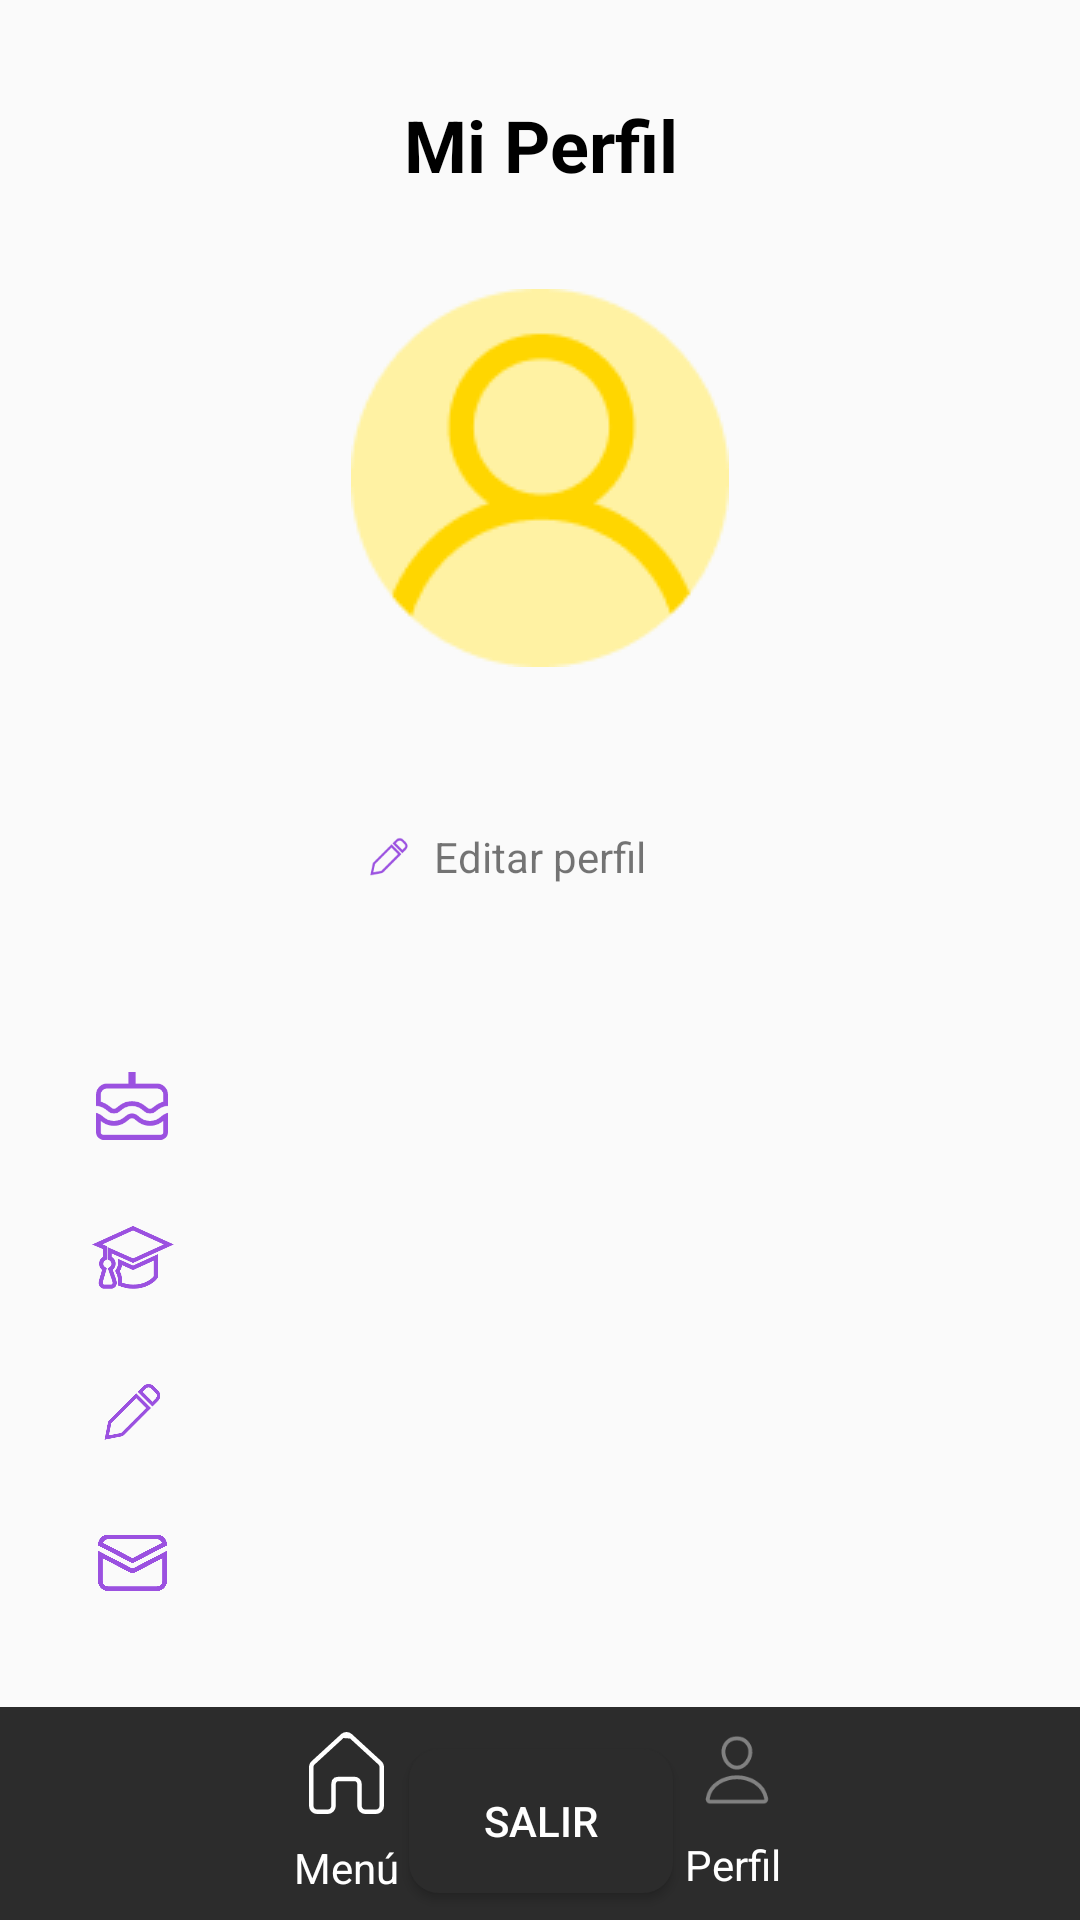

Named icons in this screenshot (1080×1920) and their centers, point (x, y):
birrete: point (133, 1257)
email: point (132, 1563)
home: point (346, 1773)
lapiz: point (389, 857), point (132, 1412)
person: point (737, 1770)
torta: point (132, 1106)
